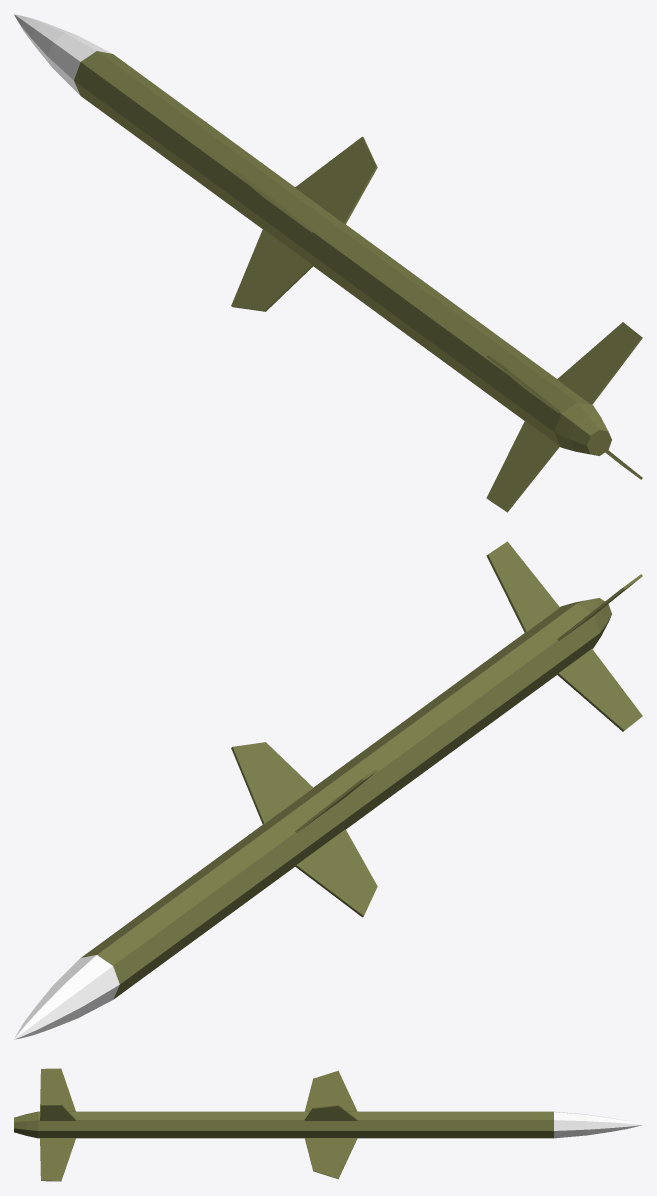
Rendered from SAM.glb.
The picture shows the model from 3 angles, top to bottom: view 1: azimuth 30°, elevation 25°; view 2: azimuth 150°, elevation 25°; view 3: azimuth 270°, elevation 25°; orthographic projection. The views are drawn at different scales.
Parts seen in each view (by area): view 1: Missile_1; view 2: Missile_1; view 3: Missile_1.
Part boxes in pixels (x1=…): Missile_1: x1=14, y1=14, x2=642, y2=512; Missile_1: x1=14, y1=541, x2=642, y2=1039; Missile_1: x1=14, y1=1068, x2=641, y2=1181.
Size of the model in its own units: 0.7629 by 0.7629 by 5.6.
Materials: 1 (1 with a texture image).
